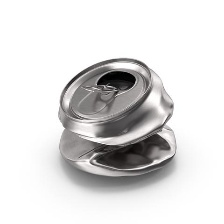can: (50, 54, 187, 184)
